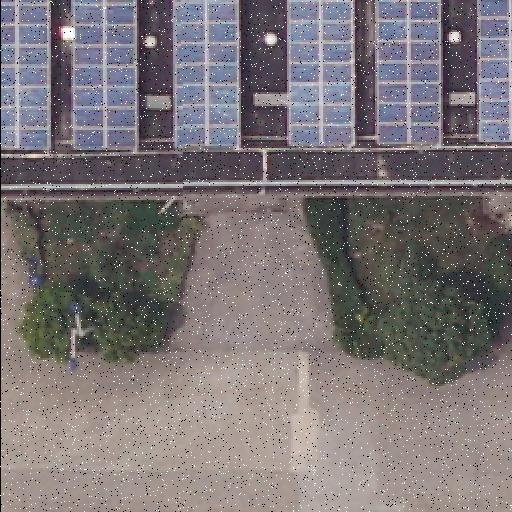solar-panel: (285, 1, 355, 151), (172, 1, 240, 151), (72, 0, 136, 152), (376, 0, 440, 148), (0, 1, 48, 151), (476, 0, 512, 144)
